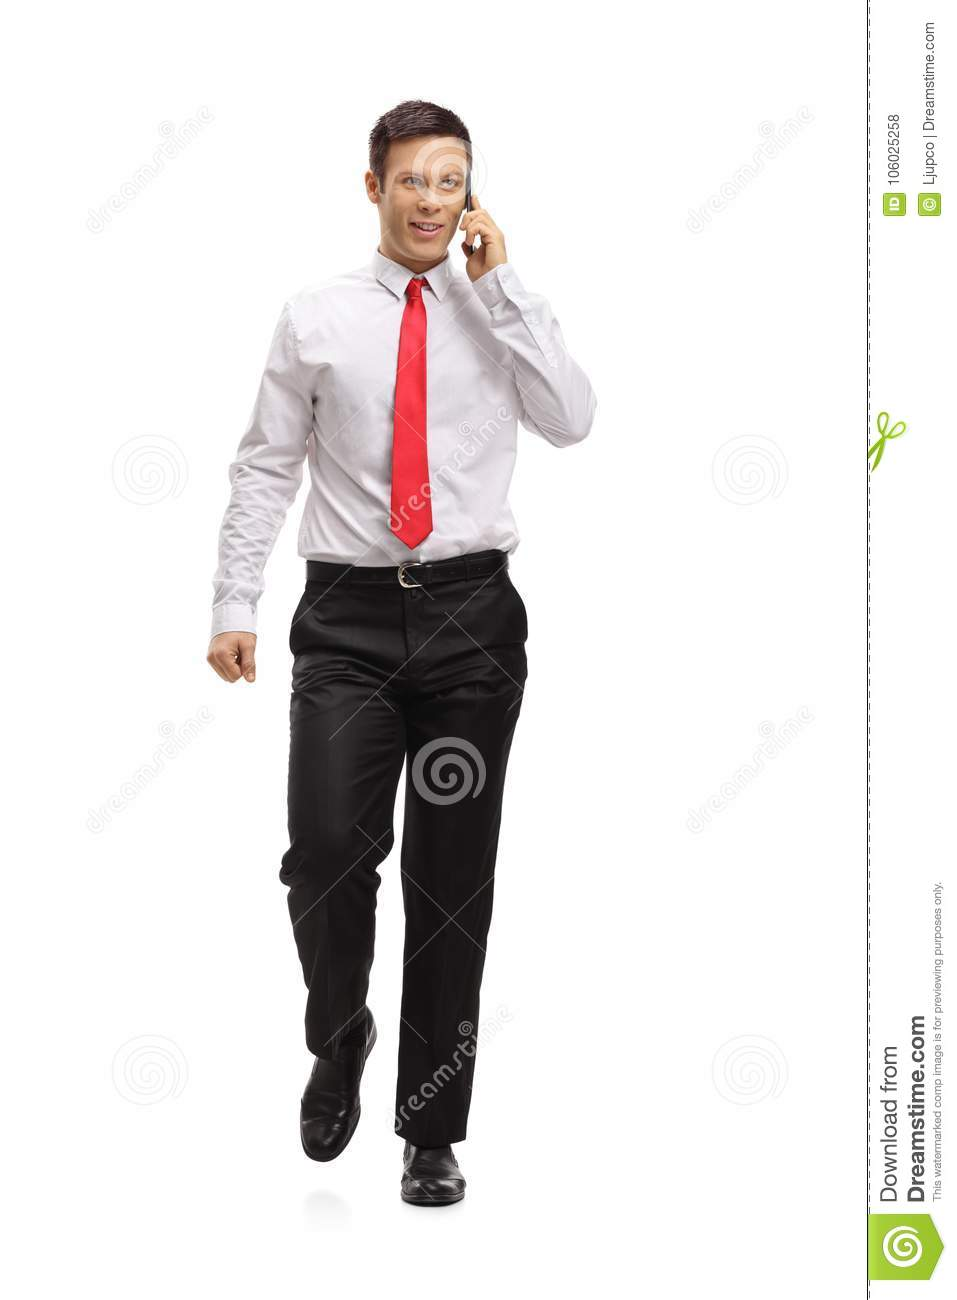phone: (457, 167, 478, 249)
talk: (392, 162, 510, 290)
